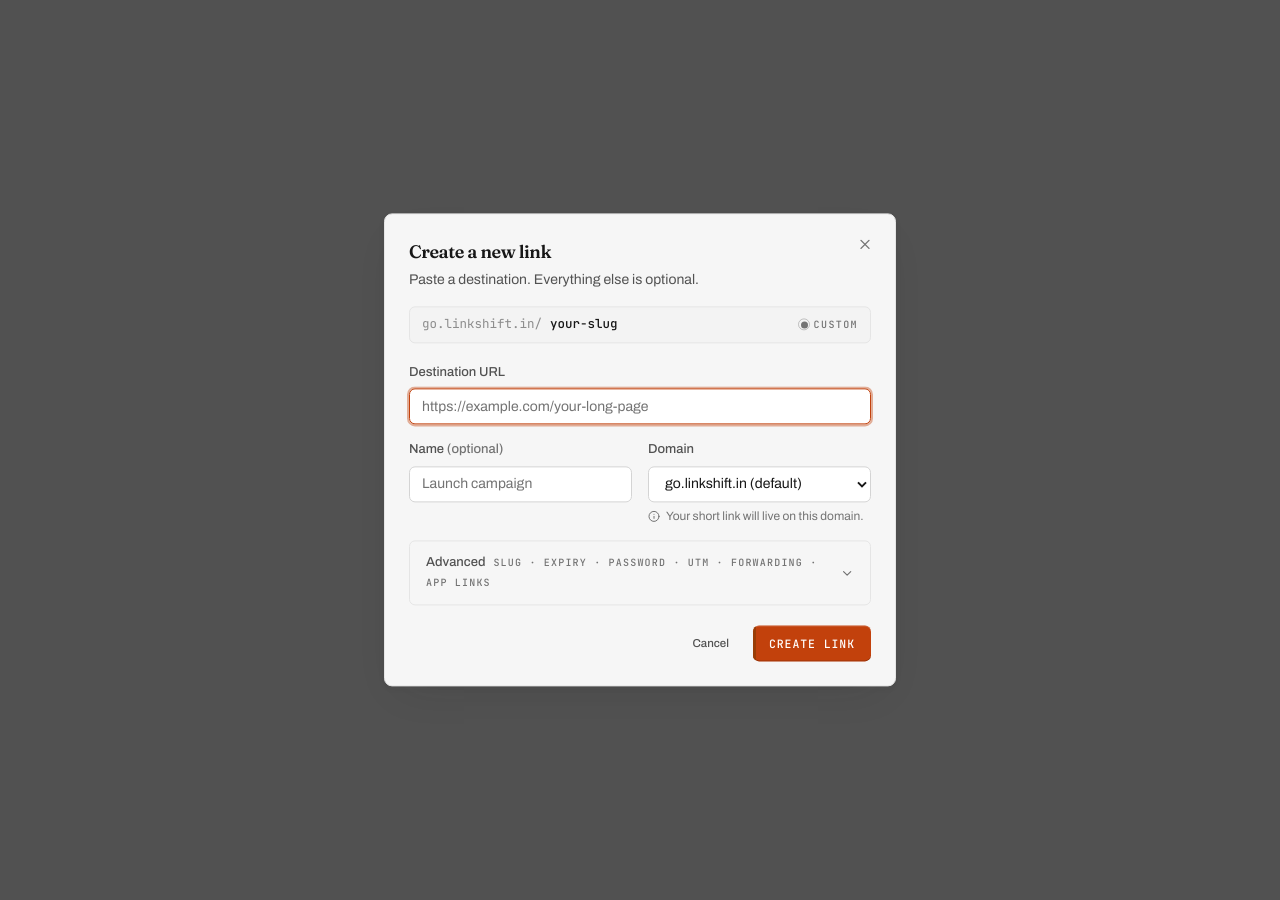
Test: CreateLinkDialog short-link preview › updates the preview prefix immediately when a custom domain is selected
Select "nadeem.io" in the dropdown labelled "Domain" at {"x": 760, "y": 484}, box [648, 466, 871, 502]
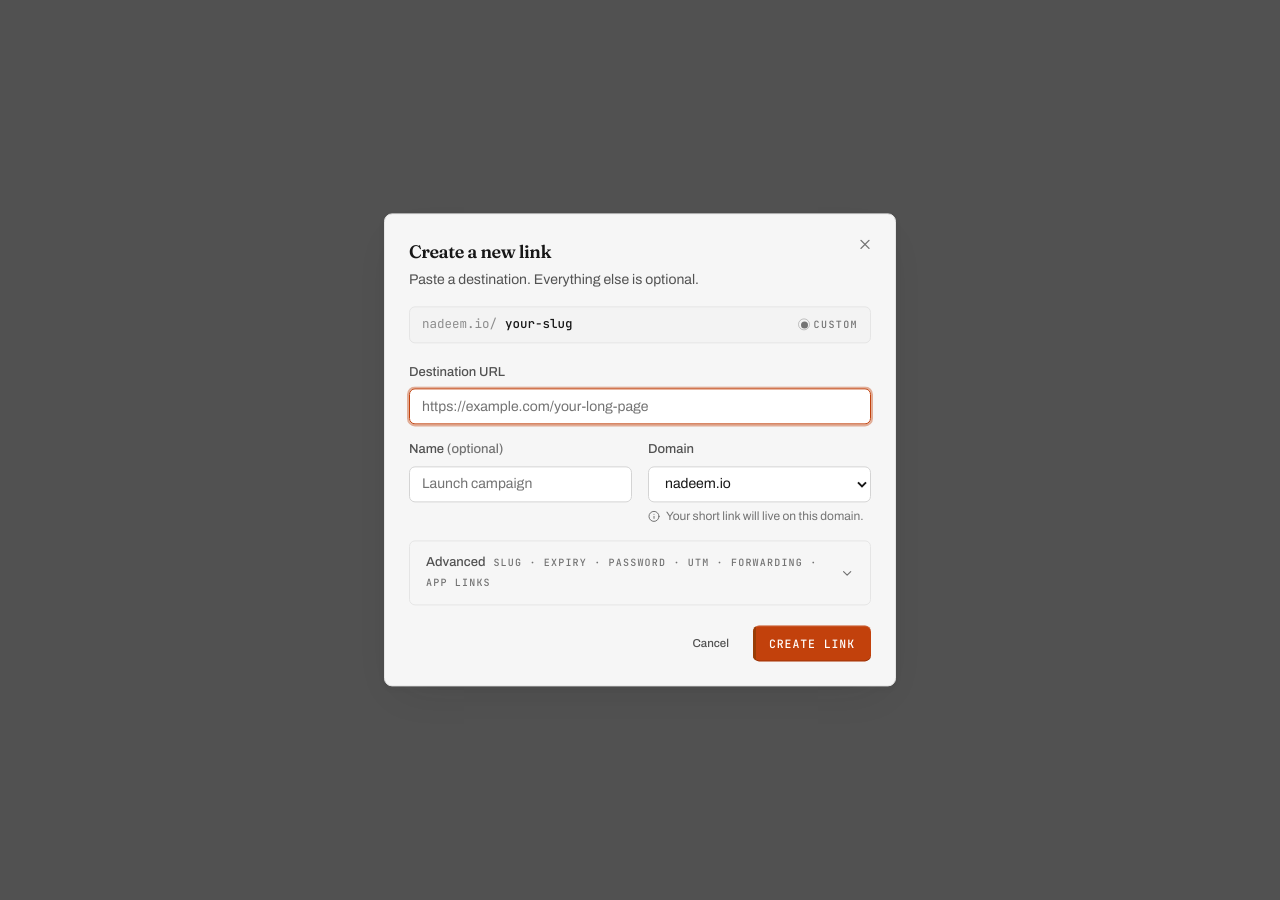
Expected: the element named "Short link preview" shows "nadeem.io/", [409, 306, 871, 343]
Expected: the element named "Short link preview" no longer shows "go.linkshift.in/", [409, 306, 871, 343]
